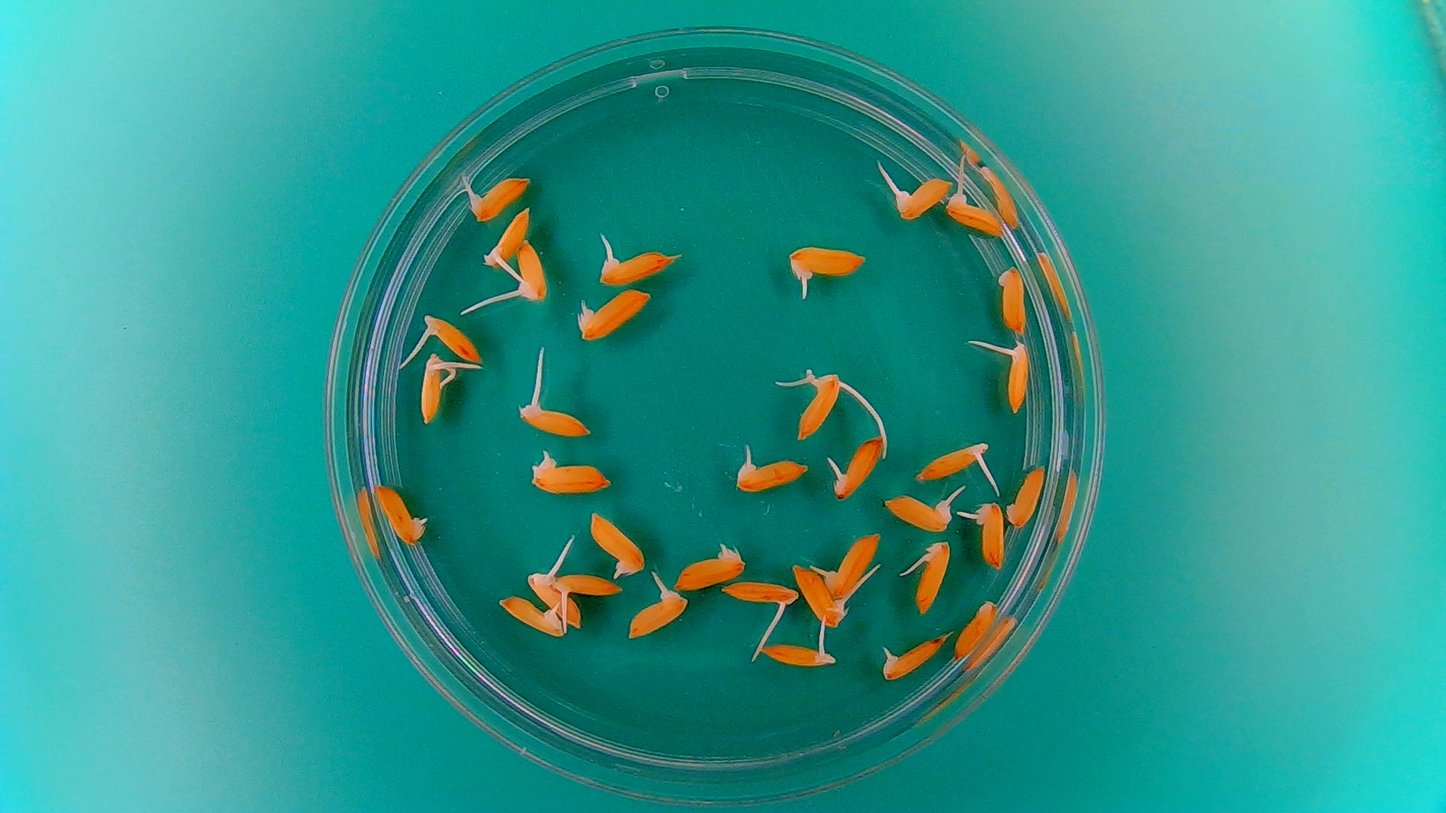no: (954, 596, 1000, 662), (1005, 462, 1048, 529), (996, 263, 1028, 337)
yes: (587, 508, 647, 578), (790, 561, 849, 629), (825, 528, 883, 595), (578, 289, 647, 343), (831, 432, 885, 499), (880, 633, 948, 682), (917, 440, 991, 485), (526, 457, 611, 495), (421, 315, 484, 366), (789, 247, 871, 286), (371, 485, 426, 543), (624, 589, 685, 641), (881, 492, 958, 533), (496, 593, 566, 638), (894, 171, 953, 223), (467, 171, 528, 221), (799, 373, 844, 440), (913, 537, 953, 612), (484, 211, 534, 271), (735, 456, 809, 495), (673, 548, 740, 589), (527, 574, 579, 626), (598, 250, 671, 287), (514, 402, 590, 437), (754, 640, 837, 671), (972, 501, 1008, 571), (722, 577, 800, 609), (944, 193, 1002, 236), (549, 571, 623, 602), (515, 241, 548, 305), (418, 353, 447, 421), (1005, 340, 1030, 413)
